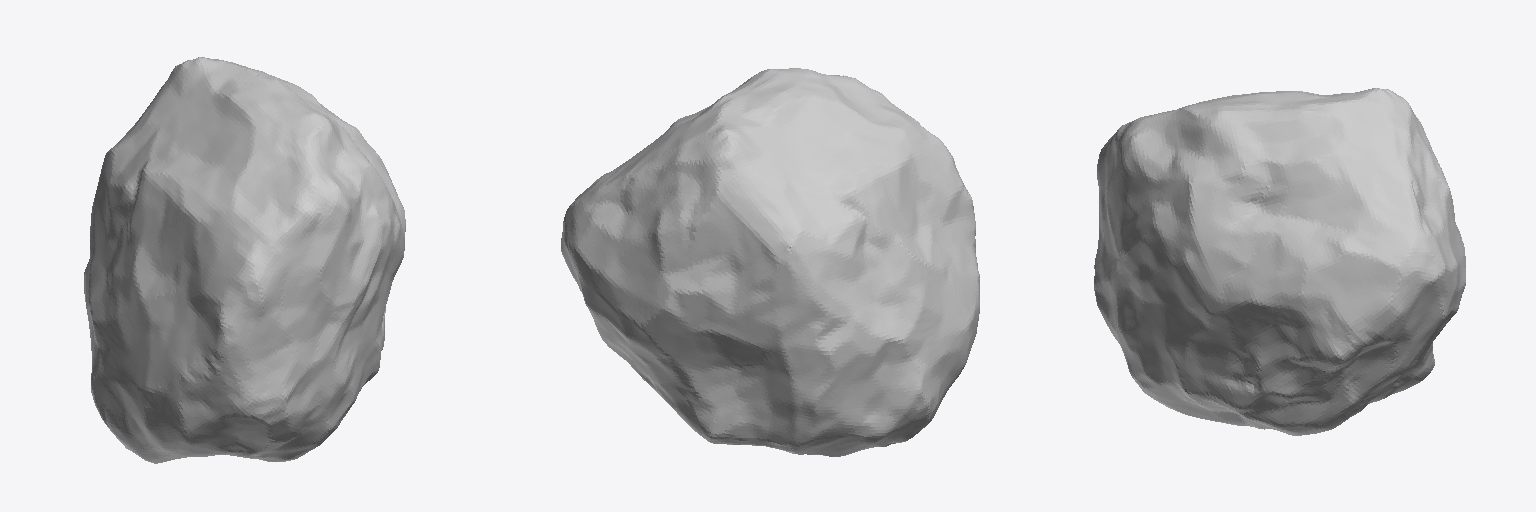
Rendered from rock 4 gb rs.obj.
3 renders of one model, left to right at view 1: azimuth 30°, elevation 25°; view 2: azimuth 150°, elevation 25°; view 3: azimuth 270°, elevation 25°, orthographic.
Size of the model in its own units: 1.98 by 1.93 by 2.